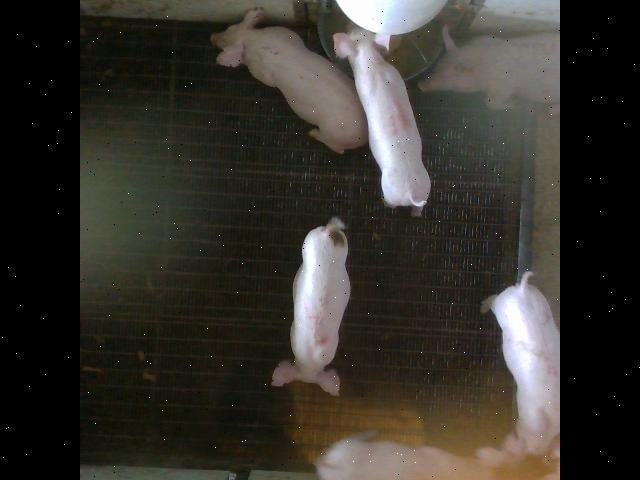pig-4: (334, 19, 430, 206)
pig-5: (272, 216, 350, 395)
